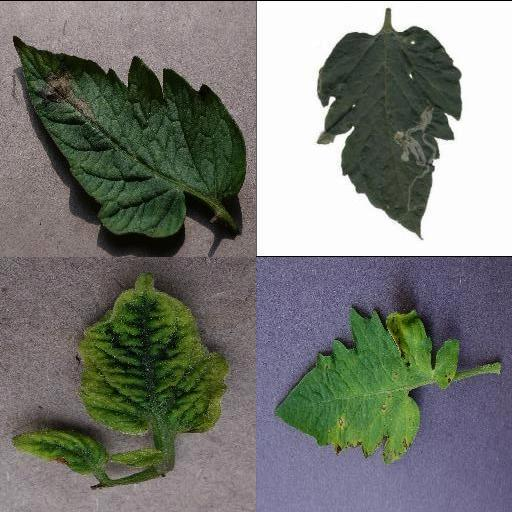Late Blight: (12, 33, 246, 235)
Leaf Miner: (314, 25, 462, 239)
Septoria: (273, 306, 461, 461)
Yellow Leaf Curl Virus: (79, 269, 231, 431), (11, 426, 107, 474), (111, 448, 169, 468)
